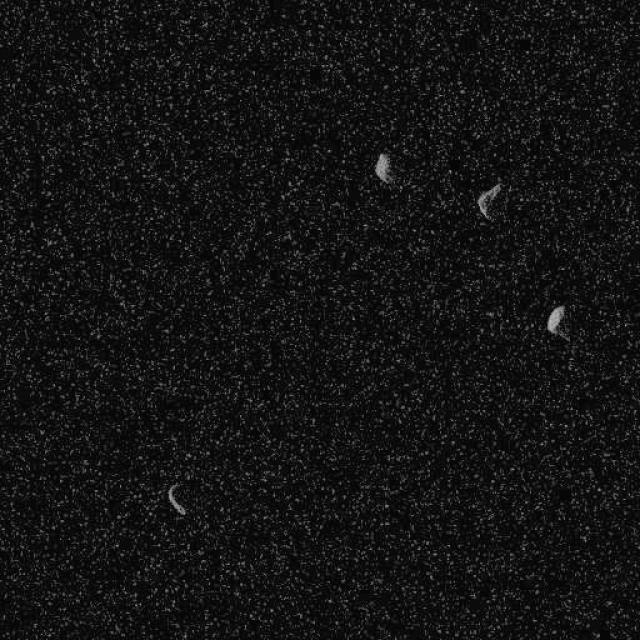D2: (475, 181, 501, 221), (545, 304, 570, 341), (372, 151, 393, 184), (166, 482, 186, 516)
